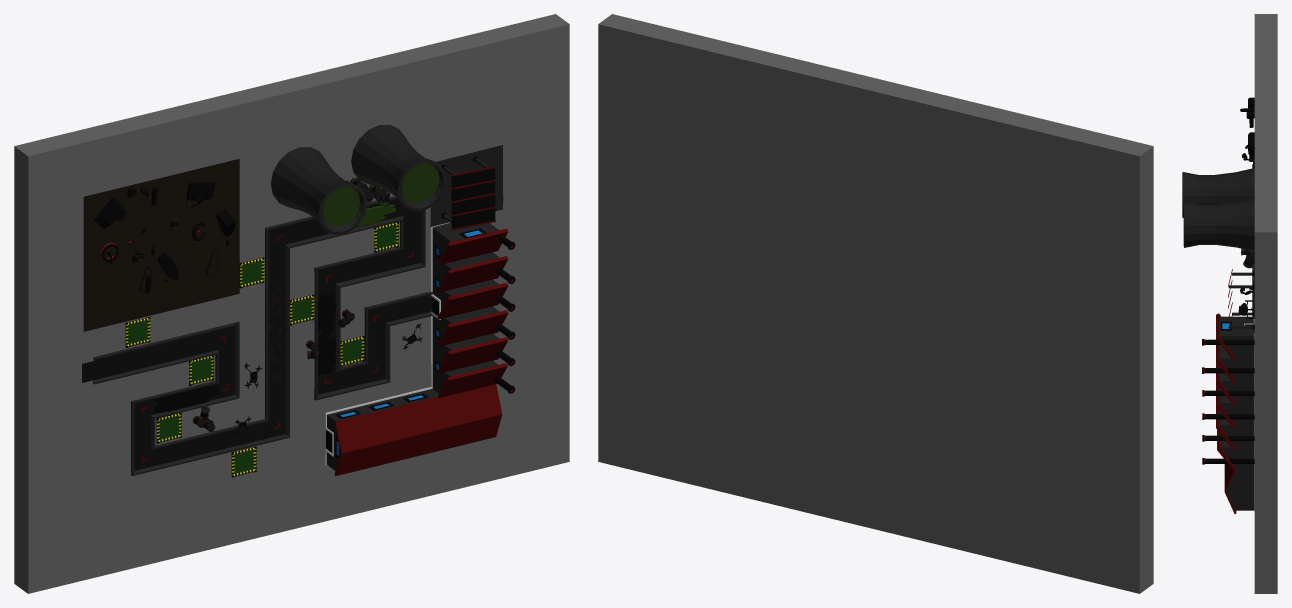
Rendered from MAPAV2.obj.
3 views of the same model, side by side, from view 1: azimuth 30°, elevation 25°; view 2: azimuth 150°, elevation 25°; view 3: azimuth 270°, elevation 25° (orthographic). The views are drawn at different scales.
Parts seen in each view (by area): view 1: Plane.196, Plane.198, Plane.114, Plane.002, Circle.135, Circle.004, Plane.099, Plane.082, Plane.111, Plane.022, Plane.026; view 2: Plane.196; view 3: Plane.196, Plane.198, Circle.004, Circle.135, Cube.120.
Boxes of the visible parts, <box> form: Plane.196: <box>14,14,569,593</box>; Plane.198: <box>325,222,515,476</box>; Plane.114: <box>83,159,239,331</box>; Plane.002: <box>82,199,431,470</box>; Circle.135: <box>271,147,366,234</box>; Circle.004: <box>351,124,446,211</box>; Plane.099: <box>451,168,495,228</box>; Plane.082: <box>430,145,503,227</box>; Plane.111: <box>154,385,219,412</box>; Plane.022: <box>285,252,289,427</box>; Plane.026: <box>140,435,280,473</box>; Plane.196: <box>598,14,1153,593</box>; Plane.196: <box>1254,14,1277,593</box>; Plane.198: <box>1202,313,1254,513</box>; Circle.004: <box>1183,198,1254,251</box>; Circle.135: <box>1182,168,1254,217</box>; Cube.120: <box>1248,132,1254,157</box>.
Size of the model in its own units: 47.3 by 36.52 by 8.75.
